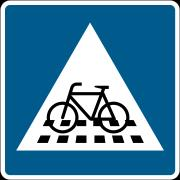Cycle Crossing: (16, 21, 162, 155)
